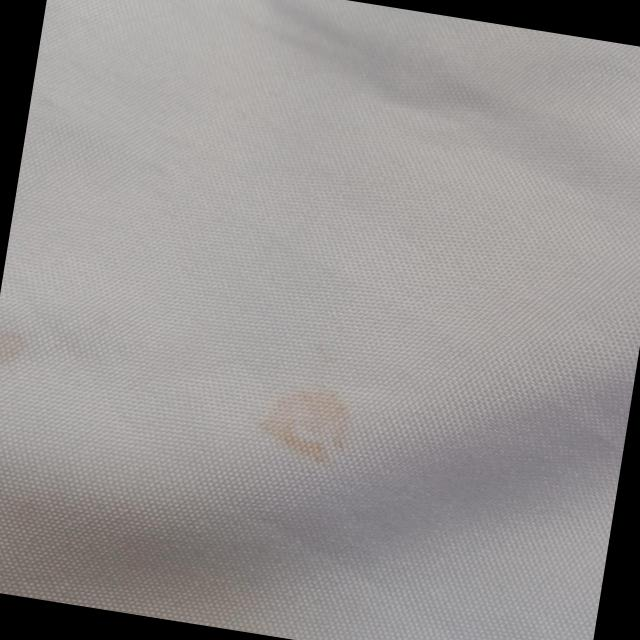stain: (252, 373, 376, 478), (0, 321, 37, 377)
